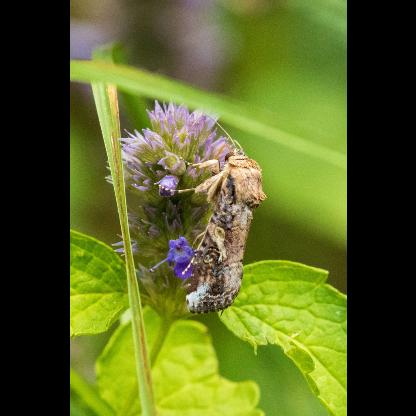Fall Armyworm Moth: (155, 115, 268, 319)
